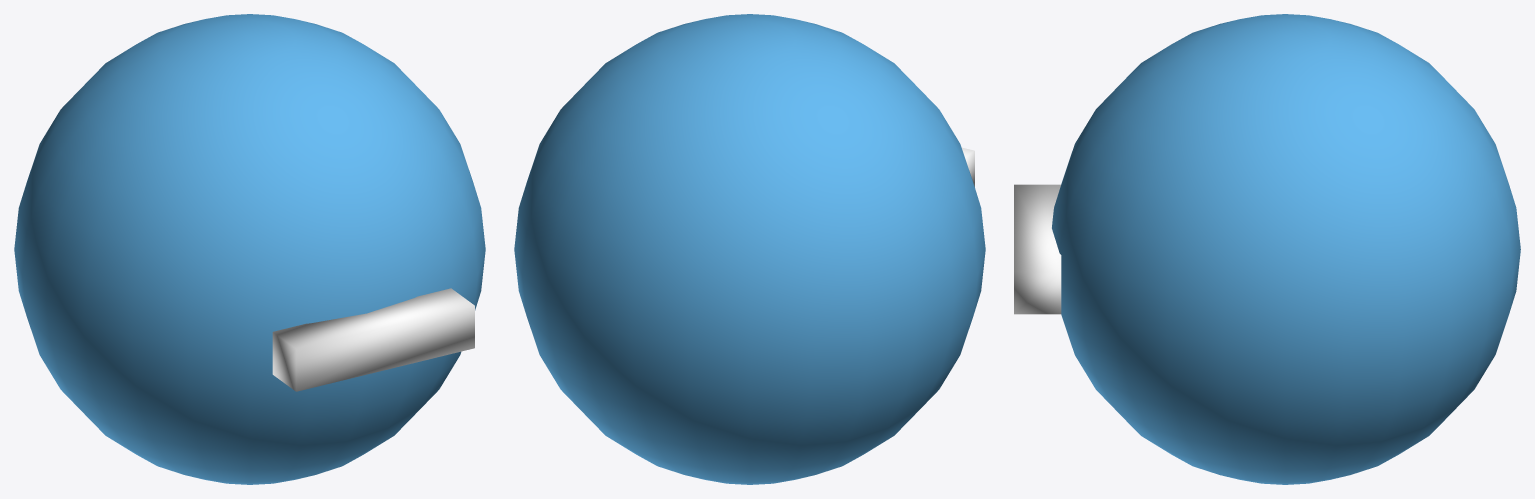
File: electron.glb
3 views of the same model, side by side, from view 1: azimuth 30°, elevation 25°; view 2: azimuth 150°, elevation 25°; view 3: azimuth 270°, elevation 25° (orthographic).
Visible parts, largest first — view 1: core, minus; view 2: core; view 3: core, minus.
Boxes of the visible parts, left/top/right/bottom form: core: left=14, top=14, right=485, bottom=484; minus: left=272, top=288, right=474, bottom=391; core: left=514, top=14, right=985, bottom=484; core: left=1052, top=14, right=1520, bottom=484; minus: left=1014, top=184, right=1061, bottom=314.
Size of the model in its own units: 0.8 by 0.8 by 0.86.
